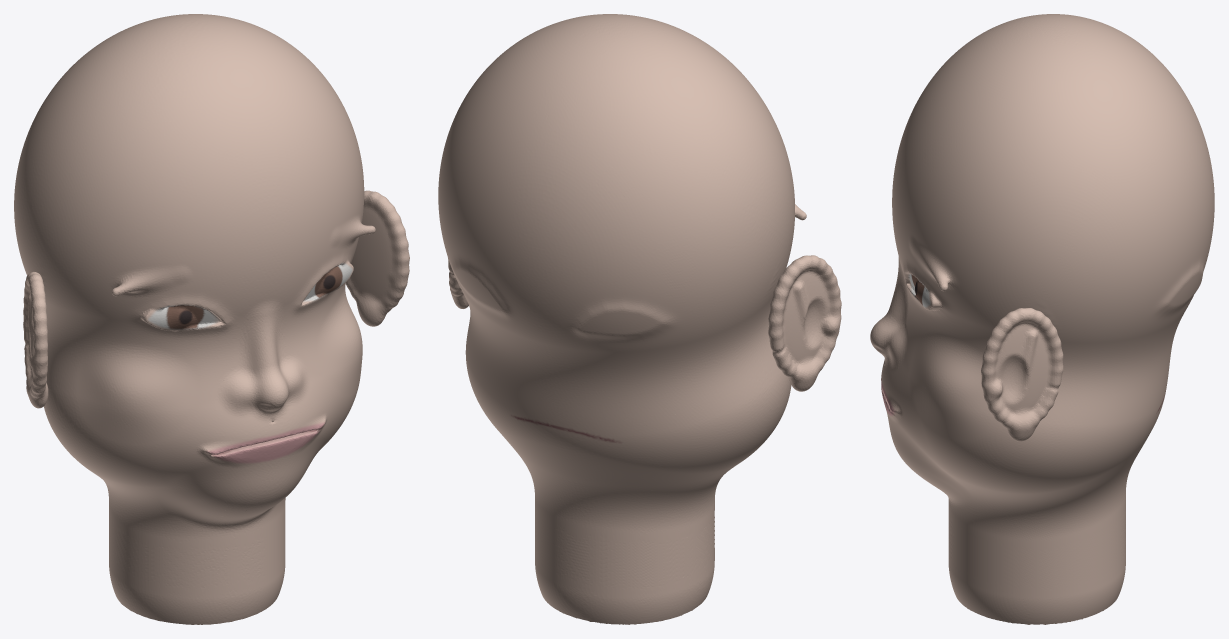
File: karma_face_stage1_K_neutral_EXPERIMENT.glb
The picture shows the model from 3 angles, left to right: view 1: azimuth 30°, elevation 25°; view 2: azimuth 150°, elevation 25°; view 3: azimuth 270°, elevation 25°; orthographic projection.
Parts seen in each view (by area): view 1: head; view 2: head; view 3: head.
Part boxes in pixels (x1,y1,x2,y2): head: (14,14,409,624); head: (438,14,841,624); head: (870,14,1214,624).
Bounding box in the file's own units: 2.7 × 3.83 × 2.14.
